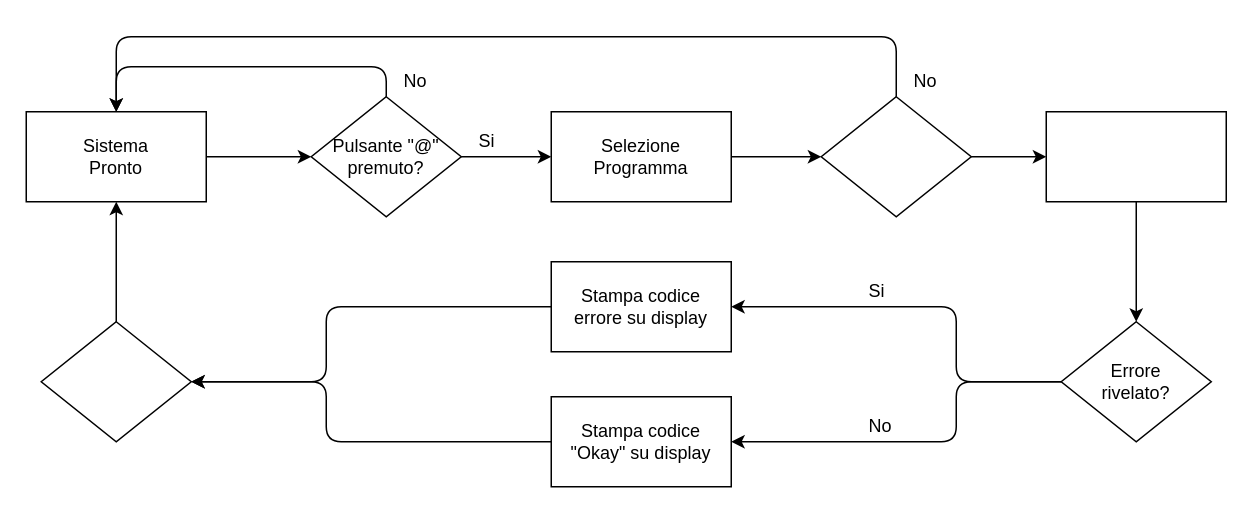
Image size: 1253x513. Some labels were removed from this diagram. The shapes that lost their labels are listed below. From the top down, each one's box as (x1, y1, x2, y2) in pixels, then its label:
(820, 95, 971, 217): Numero 99 selezionato?
(1045, 110, 1226, 202): Procedura di Check in esecuzione
(40, 320, 191, 442): Termine Procedura di check
